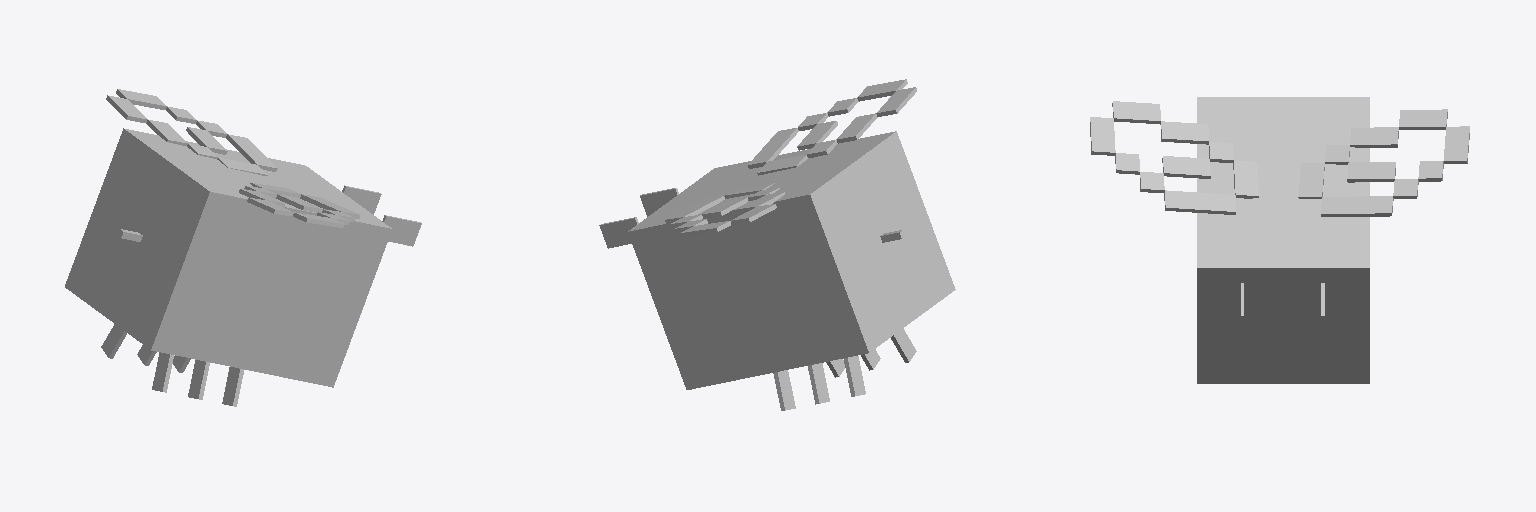
File: Bee_ (98).obj
3 views of the same model, side by side, from view 1: azimuth 30°, elevation 25°; view 2: azimuth 150°, elevation 25°; view 3: azimuth 270°, elevation 25° (orthographic).
Visible parts, largest first — view 1: b_Bee_MAT_0, r_Bee_MAT_0, l_Bee_MAT_0; view 2: b_Bee_MAT_0, l_Bee_MAT_0, r_Bee_MAT_0; view 3: b_Bee_MAT_0, l_Bee_MAT_0, r_Bee_MAT_0.
Part boxes in pixels (bbox=[...]): b_Bee_MAT_0: bbox=[65, 128, 421, 406]; r_Bee_MAT_0: bbox=[106, 89, 277, 175]; l_Bee_MAT_0: bbox=[239, 183, 359, 227]; b_Bee_MAT_0: bbox=[599, 131, 955, 410]; l_Bee_MAT_0: bbox=[748, 79, 916, 175]; r_Bee_MAT_0: bbox=[665, 183, 784, 237]; b_Bee_MAT_0: bbox=[1197, 97, 1369, 383]; l_Bee_MAT_0: bbox=[1090, 101, 1258, 214]; r_Bee_MAT_0: bbox=[1298, 109, 1469, 216].
Size of the model in its own units: 0.3065 by 0.2471 by 0.3452.